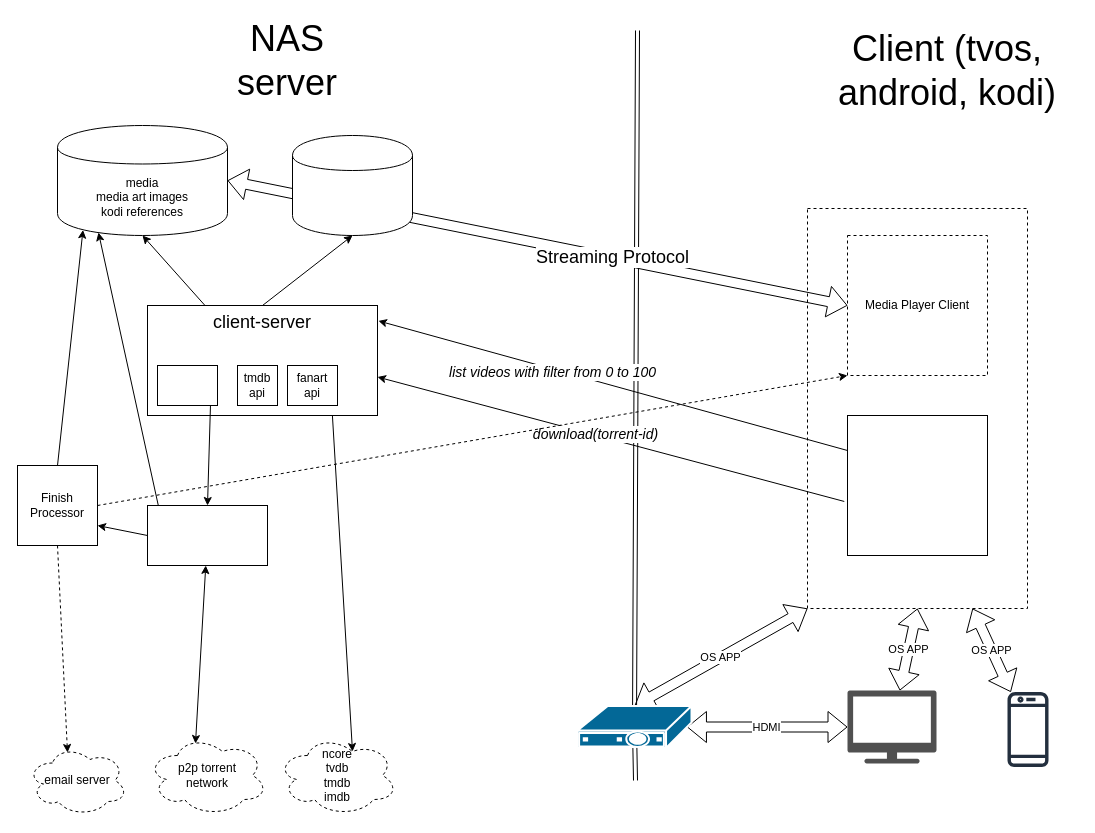
This 1095x833 diagram has some shape labels left out. The shapes that lost their labels are listed below. From the top down, each one's centre as x and y in pixels, then its label:
pixel 352 185: accounts profile stats logs
pixel 187 385: torrent client api
pixel 917 485: Cinema Home Client
pixel 207 535: torrent client service
